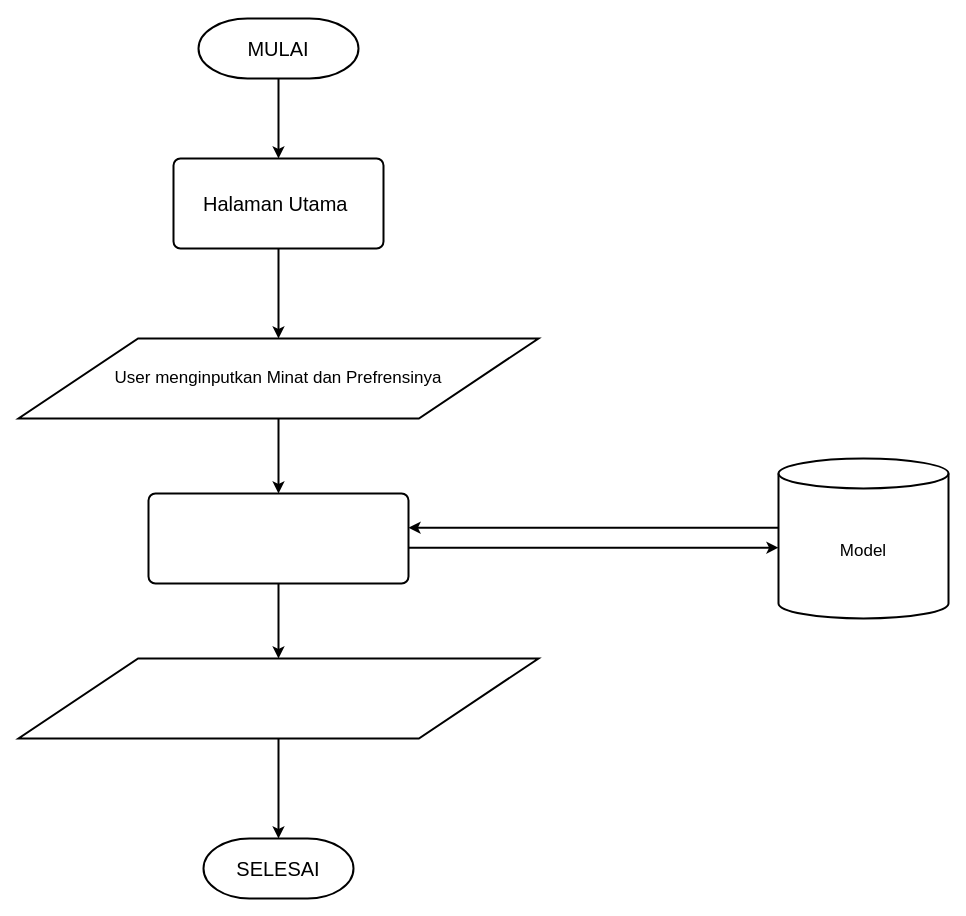
The diagram is 966 pixels wide and 916 high, and some of its shapes have lost their labels. The centre of each missing label's shape, as x and y in pixels:
Proses Similaritas: (x=278, y=538)
Rekomendasi Objek Wisata sesuai minat user: (x=278, y=698)
